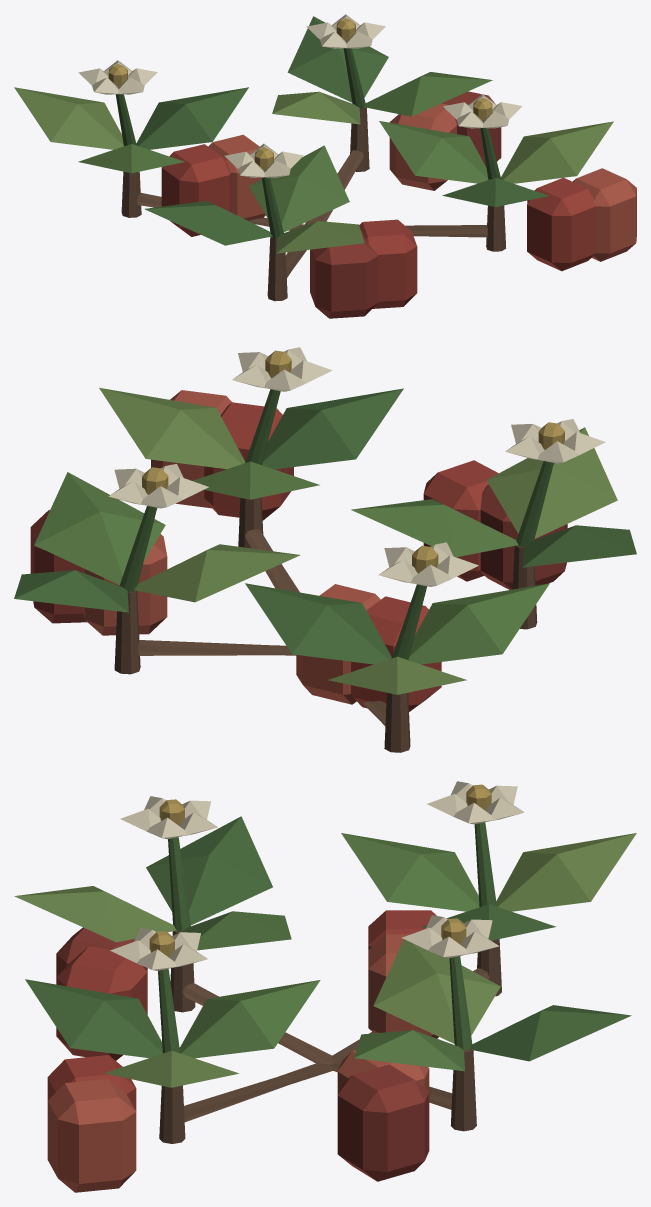
Rendered from wild_strawberry_spring.glb.
3 views of the same model, one above another, from view 1: azimuth 30°, elevation 25°; view 2: azimuth 150°, elevation 25°; view 3: azimuth 270°, elevation 25° (orthographic). The views are drawn at different scales.
Visible parts, largest first — view 1: wild_strawberry_spring; view 2: wild_strawberry_spring; view 3: wild_strawberry_spring.
Boxes of the visible parts, <box> form: wild_strawberry_spring: <box>14,14,636,318</box>; wild_strawberry_spring: <box>14,347,636,752</box>; wild_strawberry_spring: <box>14,781,636,1192</box>.
Bounding box in the file's own units: 1.28 × 0.427 × 1.24.
